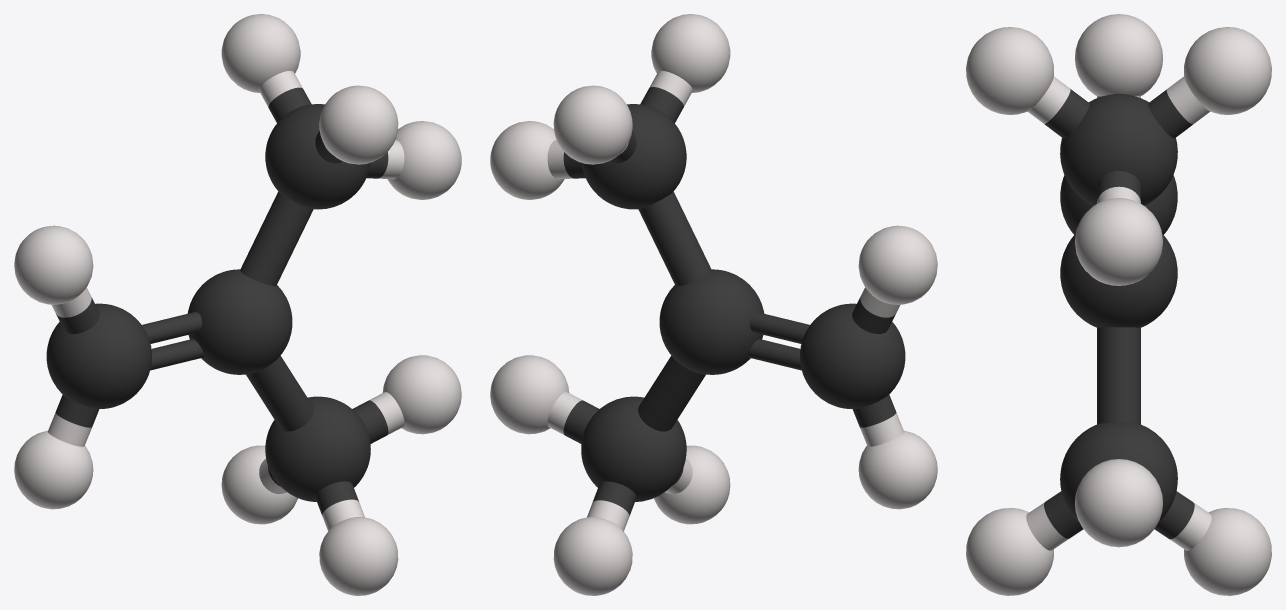
Rendered from jjpx.gltf.
The picture shows the model from 3 angles, left to right: view 1: azimuth 30°, elevation 25°; view 2: azimuth 150°, elevation 25°; view 3: azimuth 270°, elevation 25°; orthographic projection. The views are drawn at different scales.
Visible parts, largest first — view 1: 6; view 2: 6; view 3: 6.
Boxes of the visible parts, x1,y1,x2,y2 form: 6: (14, 14, 461, 595); 6: (490, 14, 937, 595); 6: (966, 14, 1271, 595).
Bounding box in the file's own units: 38.2 × 42.03 × 20.77.
Materials: 2 (2 with a texture image).
